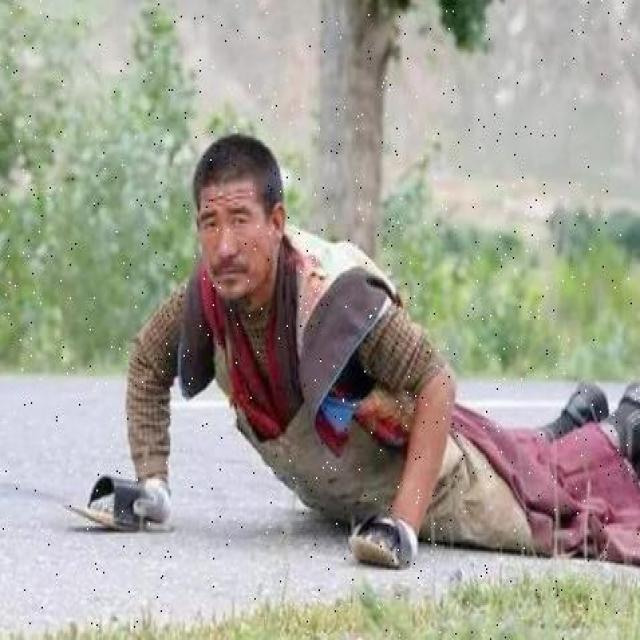fall: (124, 140, 638, 556)
